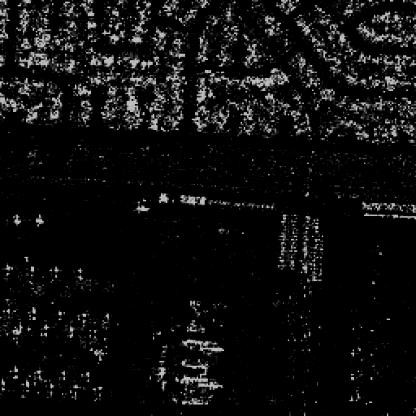airplane: (89, 385, 104, 401), (8, 322, 24, 336), (18, 379, 32, 395), (74, 310, 88, 325), (44, 379, 58, 393), (67, 384, 81, 398), (55, 307, 70, 320), (57, 367, 70, 382), (6, 364, 20, 377), (31, 368, 45, 380), (81, 370, 93, 384), (34, 213, 46, 226), (10, 212, 22, 224), (3, 264, 15, 276), (73, 266, 85, 278), (28, 306, 38, 320), (40, 322, 50, 336), (49, 264, 60, 276), (65, 325, 75, 338), (26, 265, 36, 276)
